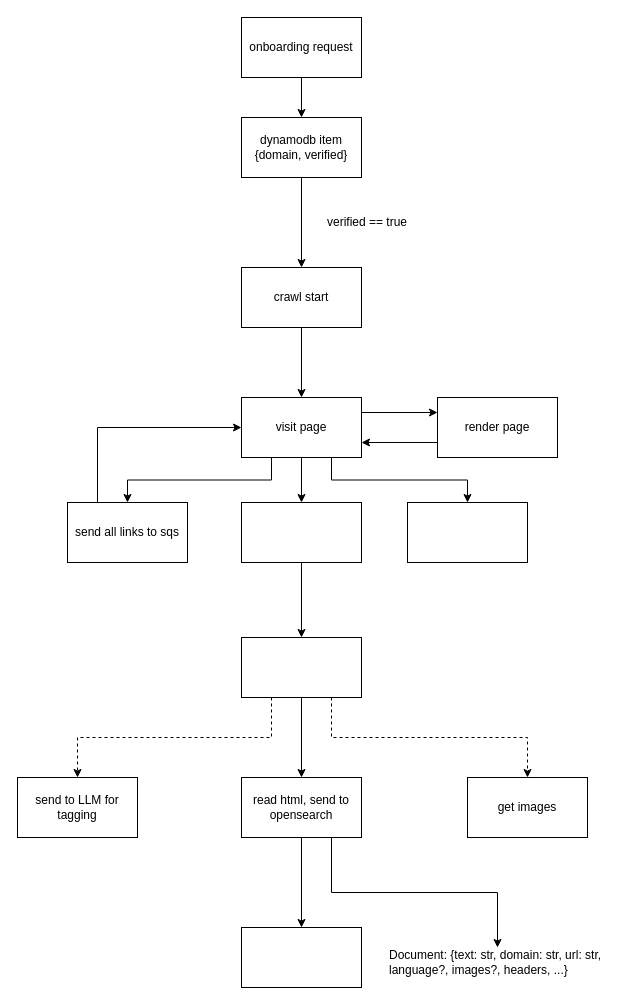
Some shapes in this 625 by 1005 pixel diagram are drawn without their labels. The centre of each missing label's shape, as x and y in pixels:
opensearch - fulltext search: the point at 301,957
s3 event: the point at 301,667
save html file: the point at 301,532
update dynamodb record for url: the point at 467,532
